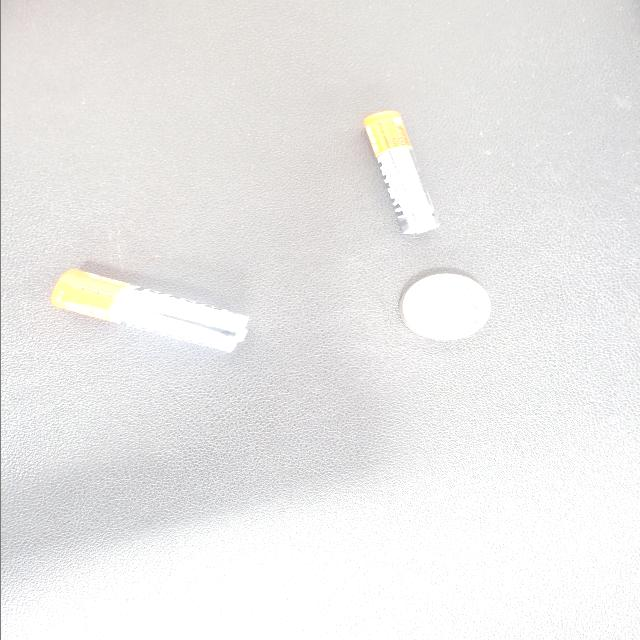AA: (146, 293, 256, 439)
AAA: (0, 152, 100, 206)
COIN: (152, 112, 240, 180)
